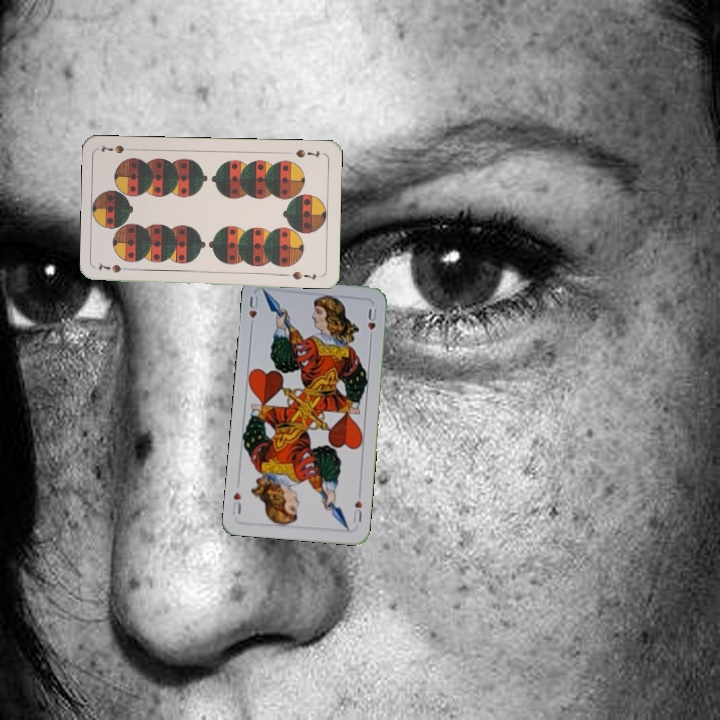HU: (245, 292, 261, 331), (349, 496, 364, 527)
S7: (95, 259, 135, 275), (292, 145, 322, 160)
